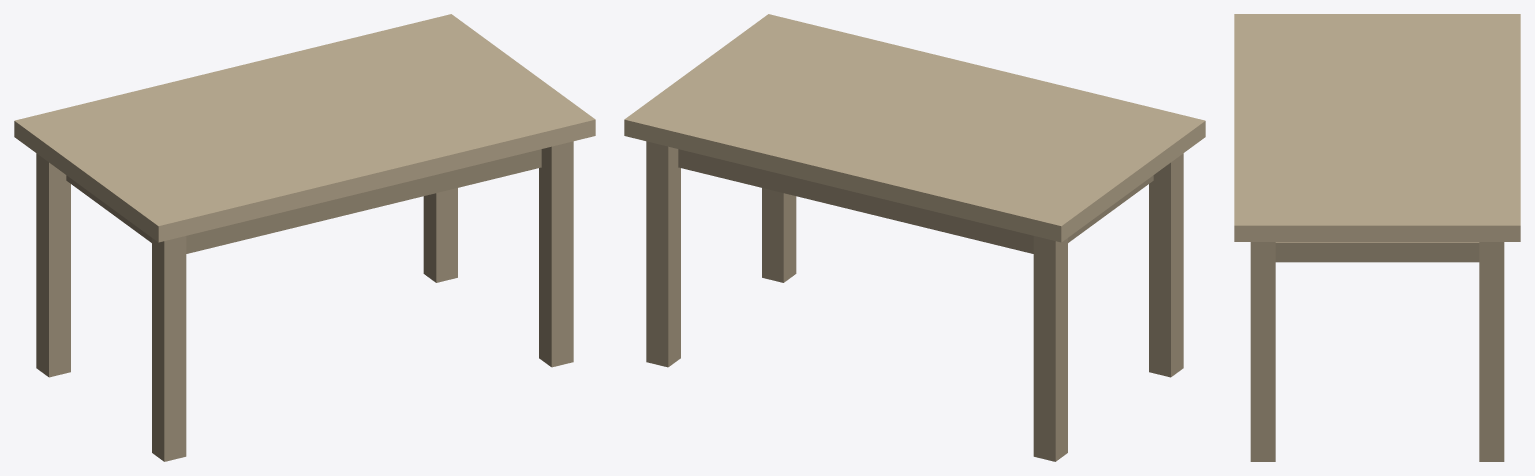
Rendered from table.glb.
3 views of the same model, side by side, from view 1: azimuth 30°, elevation 25°; view 2: azimuth 150°, elevation 25°; view 3: azimuth 270°, elevation 25° (orthographic).
Parts seen in each view (by area): view 1: table; view 2: table; view 3: table.
Part boxes in pixels (x1,y1,x2,y2): table: (14,14,595,461); table: (624,14,1205,461); table: (1234,14,1520,461).
Bounding box in the file's own units: 1.4 × 0.75 × 0.8.
